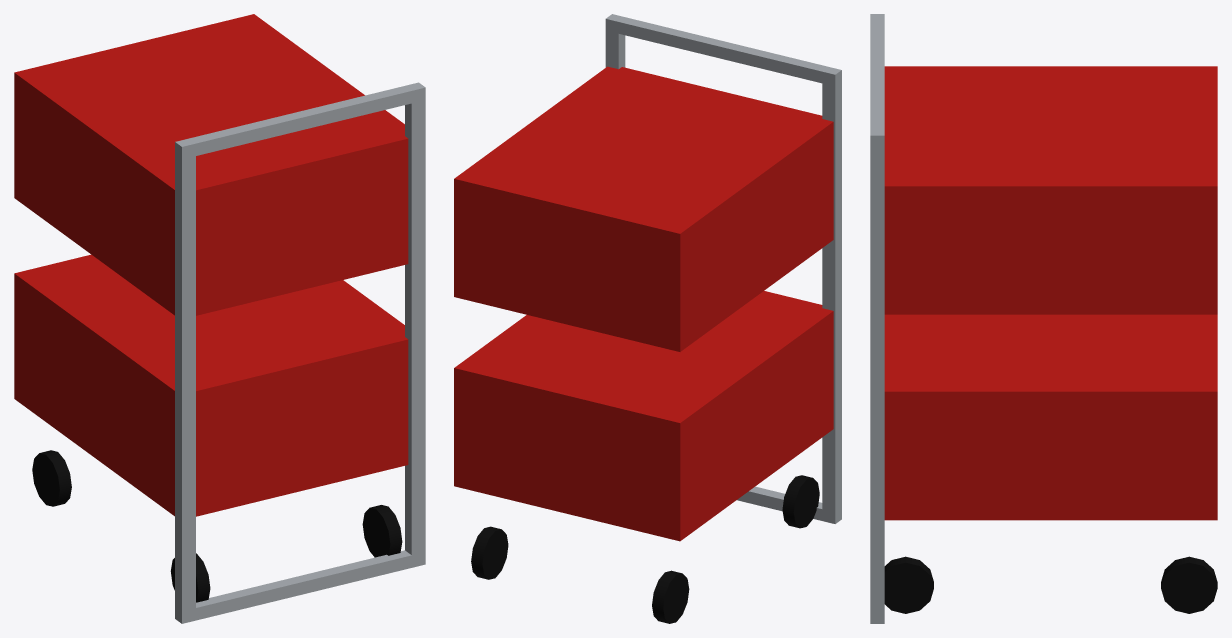
The model's file is office.misc.post_trolley.glb.
3 renders of one model, left to right at view 1: azimuth 30°, elevation 25°; view 2: azimuth 150°, elevation 25°; view 3: azimuth 270°, elevation 25°, orthographic. The views are drawn at different scales.
Visible parts, largest first — view 1: main__plastic_red, main__steel_galvanised, main__rubber; view 2: main__plastic_red, main__steel_galvanised, main__rubber; view 3: main__plastic_red, main__steel_galvanised, main__rubber.
Part boxes in pixels (x1,y1,x2,y2): main__plastic_red: [14, 14, 408, 516]; main__steel_galvanised: [175, 82, 425, 623]; main__rubber: [32, 450, 402, 602]; main__plastic_red: [454, 66, 833, 541]; main__steel_galvanised: [605, 14, 841, 523]; main__rubber: [471, 475, 819, 623]; main__plastic_red: [884, 66, 1217, 520]; main__steel_galvanised: [870, 14, 884, 623]; main__rubber: [884, 556, 1217, 613].
Bounding box in the file's own units: 0.508 × 0.95 × 0.6125.
